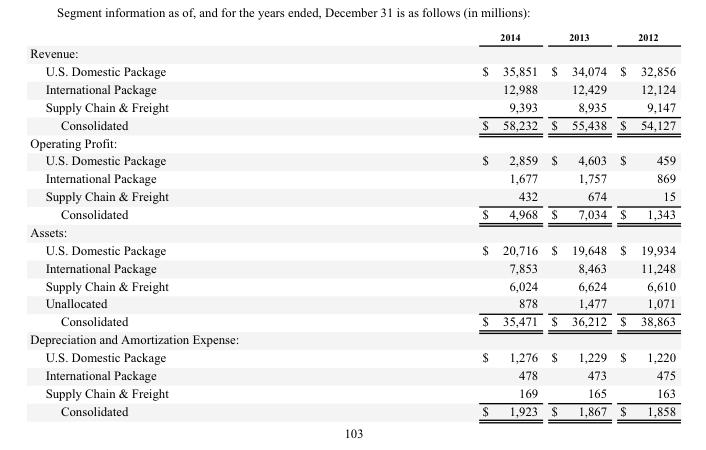table: (29, 29, 675, 418)
table column: (29, 29, 324, 418), (324, 29, 543, 418), (543, 29, 612, 418), (612, 29, 675, 418)
table column header: (29, 29, 675, 43)
table projected row header: (29, 43, 675, 61), (29, 222, 675, 240), (29, 329, 675, 347), (29, 133, 675, 150)
table row: (29, 43, 675, 61), (29, 61, 675, 79), (29, 79, 675, 97), (29, 97, 675, 115), (29, 115, 675, 133), (29, 150, 675, 168), (29, 168, 675, 186), (29, 186, 675, 204), (29, 204, 675, 222), (29, 222, 675, 240), (29, 240, 675, 258), (29, 258, 675, 276), (29, 276, 675, 294), (29, 311, 675, 329), (29, 329, 675, 347), (29, 347, 675, 365), (29, 365, 675, 383), (29, 383, 675, 401), (29, 133, 675, 150), (29, 294, 675, 311), (29, 401, 675, 418), (29, 29, 675, 43)
